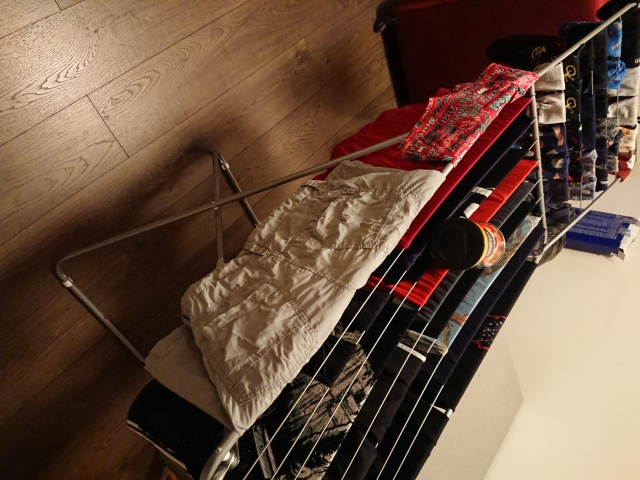Nescafe Classic 225g: (432, 215, 508, 273)
